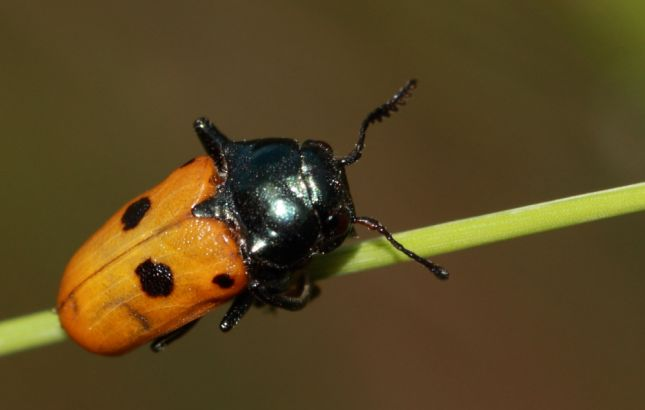Labidostomis_maculipennis: (38, 68, 463, 383)
